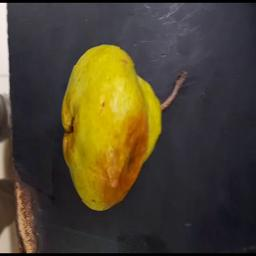Pear Rotten: (53, 31, 194, 222)
